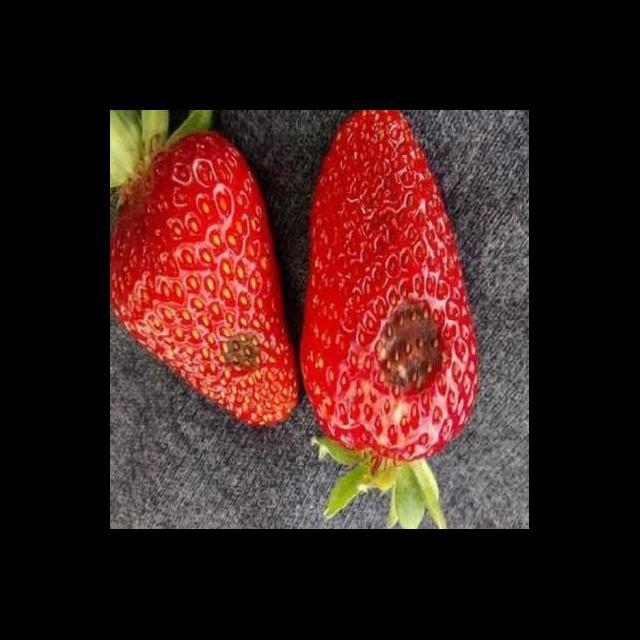Anthracnose Fruit Rot: (370, 299, 454, 400), (211, 330, 267, 374)
